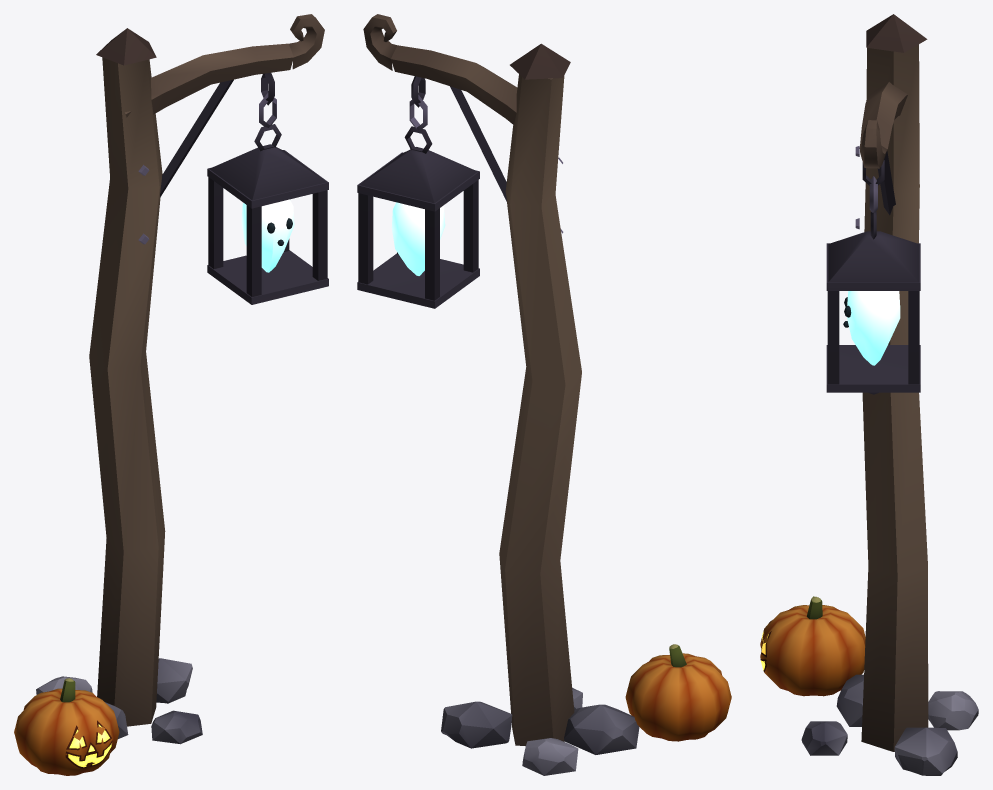
File: ghost_lantern.glb
3 renders of one model, left to right at view 1: azimuth 30°, elevation 25°; view 2: azimuth 150°, elevation 25°; view 3: azimuth 270°, elevation 25°, orthographic. The views are drawn at different scales.
Parts seen in each view (by area): view 1: ghost_lantern; view 2: ghost_lantern; view 3: ghost_lantern.
Boxes of the visible parts, x1,y1,x2,y2 form: ghost_lantern: [14, 14, 328, 775]; ghost_lantern: [357, 14, 731, 775]; ghost_lantern: [760, 14, 978, 775].
Size of the model in its own units: 0.997 by 2 by 0.5478.
